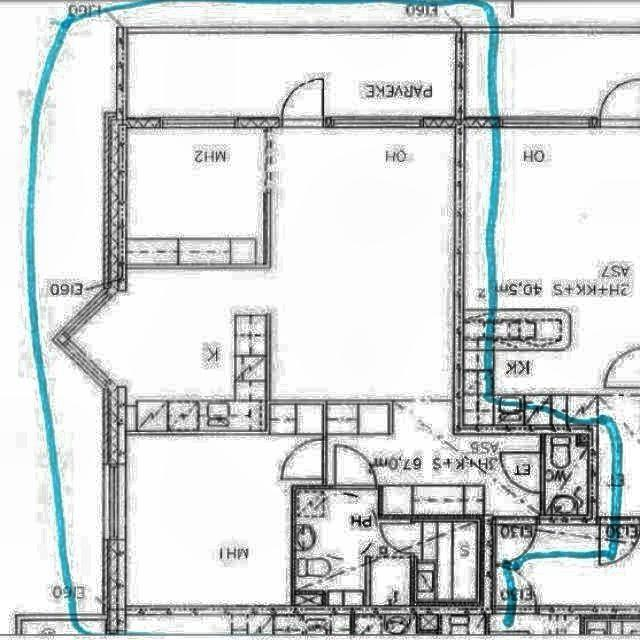room: (126, 435, 324, 606), (125, 33, 457, 117), (126, 128, 267, 266), (296, 489, 411, 605), (414, 520, 480, 602), (545, 435, 589, 515)
